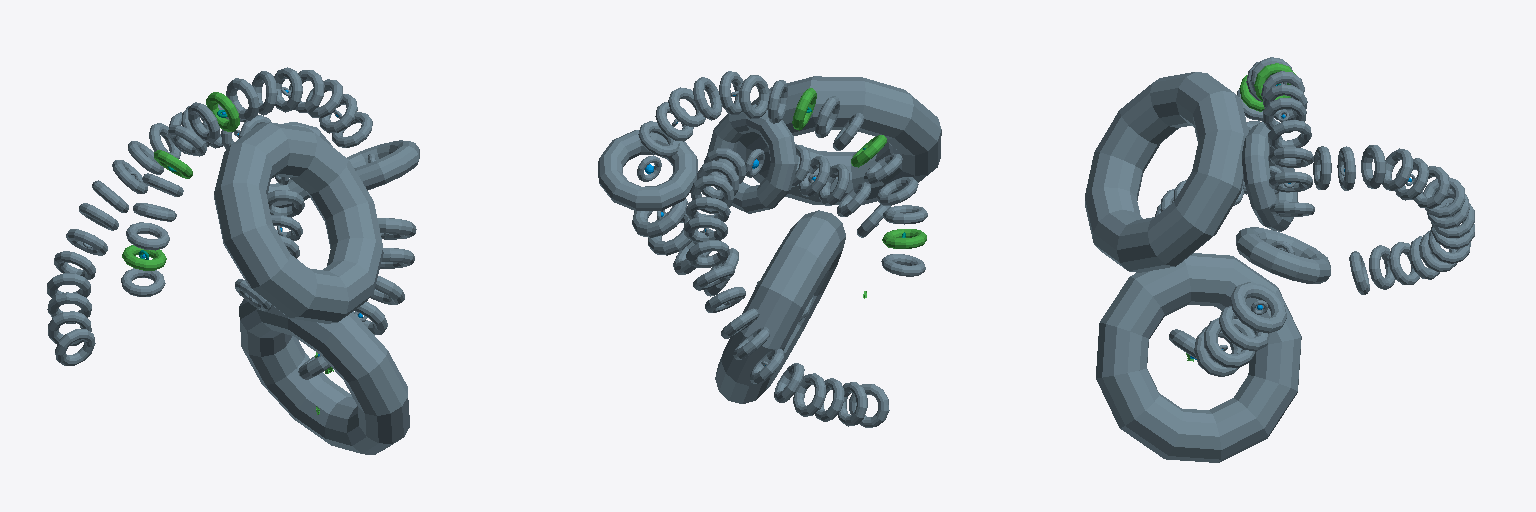
3 renders of one model, left to right at view 1: azimuth 30°, elevation 25°; view 2: azimuth 150°, elevation 25°; view 3: azimuth 270°, elevation 25°, orthographic.
Visible parts, largest first — view 1: group[number redacted], group[number redacted], group[number redacted], group[number redacted], group[number redacted], group[number redacted], group[number redacted], group[number redacted], group[number redacted], group[number redacted], group[number redacted], group[number redacted] (+22 smaller); view 2: group[number redacted], group[number redacted], group[number redacted], group[number redacted], group[number redacted], group[number redacted], group[number redacted], group[number redacted], group[number redacted], group[number redacted], group[number redacted], group[number redacted] (+28 smaller); view 3: group[number redacted], group[number redacted], group[number redacted], group[number redacted], group[number redacted], group[number redacted], group[number redacted], group[number redacted], group[number redacted], group[number redacted], group[number redacted], group[number redacted] (+17 smaller).
Part boxes in pixels (bbox=[...]): group[number redacted]: bbox=[214, 122, 383, 323]; group[number redacted]: bbox=[239, 299, 409, 454]; group[number redacted]: bbox=[347, 140, 419, 190]; group[number redacted]: bbox=[55, 329, 95, 365]; group[number redacted]: bbox=[126, 222, 169, 250]; group[number redacted]: bbox=[188, 102, 219, 142]; group[number redacted]: bbox=[121, 268, 165, 296]; group[number redacted]: bbox=[226, 78, 259, 120]; group[number redacted]: bbox=[274, 67, 302, 112]; group[number redacted]: bbox=[206, 92, 239, 131]; group[number redacted]: bbox=[168, 125, 206, 156]; group[number redacted]: bbox=[54, 251, 95, 279]; group[number redacted]: bbox=[736, 76, 941, 204]; group[number redacted]: bbox=[715, 210, 845, 403]; group[number redacted]: bbox=[598, 130, 697, 210]; group[number redacted]: bbox=[707, 104, 797, 213]; group[number redacted]: bbox=[632, 199, 687, 237]; group[number redacted]: bbox=[739, 75, 769, 118]; group[number redacted]: bbox=[793, 373, 825, 416]; group[number redacted]: bbox=[686, 240, 729, 267]; group[number redacted]: bbox=[693, 77, 721, 120]; group[number redacted]: bbox=[684, 216, 727, 242]; group[number redacted]: bbox=[877, 177, 918, 205]; group[number redacted]: bbox=[849, 384, 889, 427]; group[number redacted]: bbox=[1096, 253, 1301, 462]; group[number redacted]: bbox=[1085, 72, 1248, 272]; group[number redacted]: bbox=[1236, 227, 1330, 283]; group[number redacted]: bbox=[1242, 124, 1297, 231]; group[number redacted]: bbox=[1230, 282, 1286, 333]; group[number redacted]: bbox=[1204, 317, 1256, 367]; group[number redacted]: bbox=[1219, 306, 1269, 351]; group[number redacted]: bbox=[1268, 120, 1311, 148]; group[number redacted]: bbox=[1361, 145, 1385, 188]; group[number redacted]: bbox=[1382, 148, 1412, 190]; group[number redacted]: bbox=[1423, 177, 1465, 217]; group[number redacted]: bbox=[1194, 326, 1241, 376].
Size of the model in its own units: 5.72 by 6.07 by 6.02.